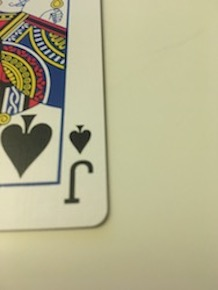JackOfSpades: (1, 1, 115, 241)
